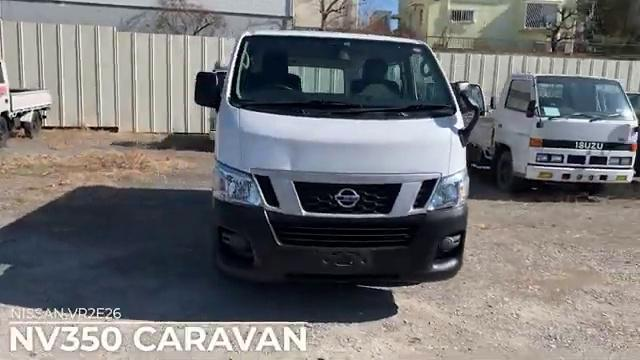Van: (203, 28, 480, 284)
